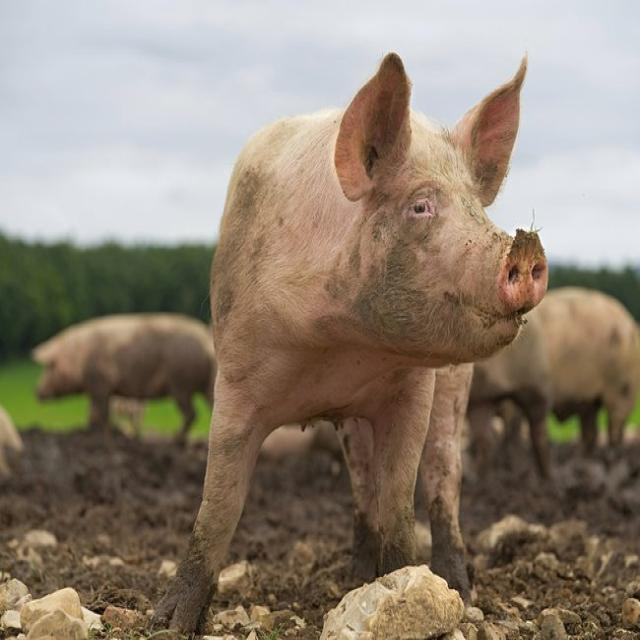pig: (154, 54, 547, 632), (32, 313, 216, 438)
